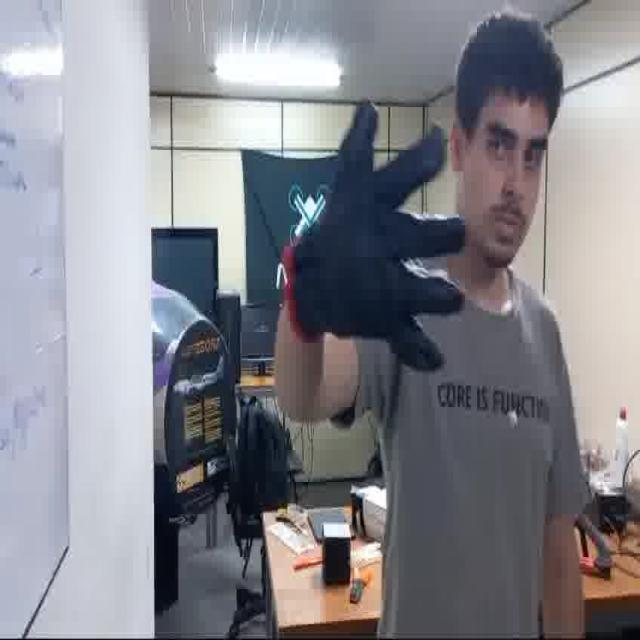Gloves: (287, 102, 466, 372)
